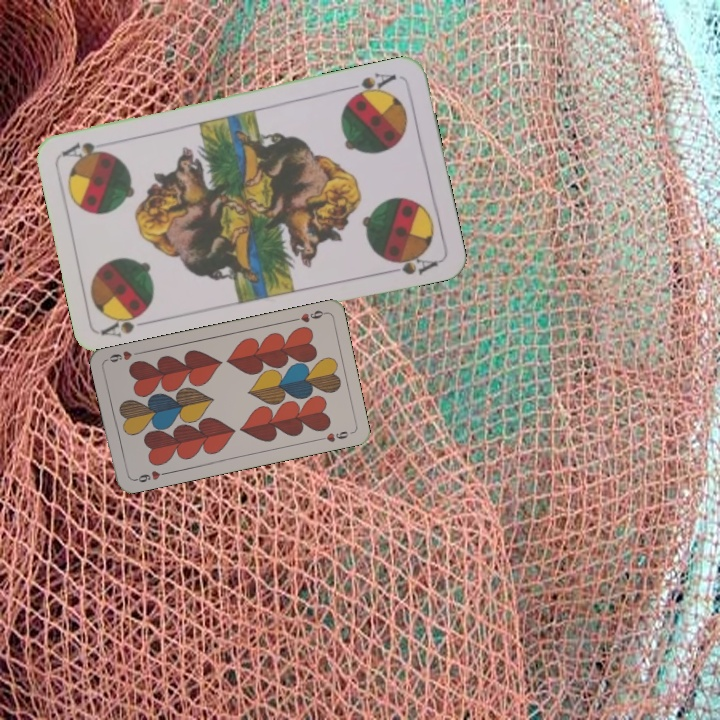H9: (288, 306, 328, 325), (130, 467, 170, 485)
SA: (342, 68, 399, 102), (98, 310, 157, 340)
